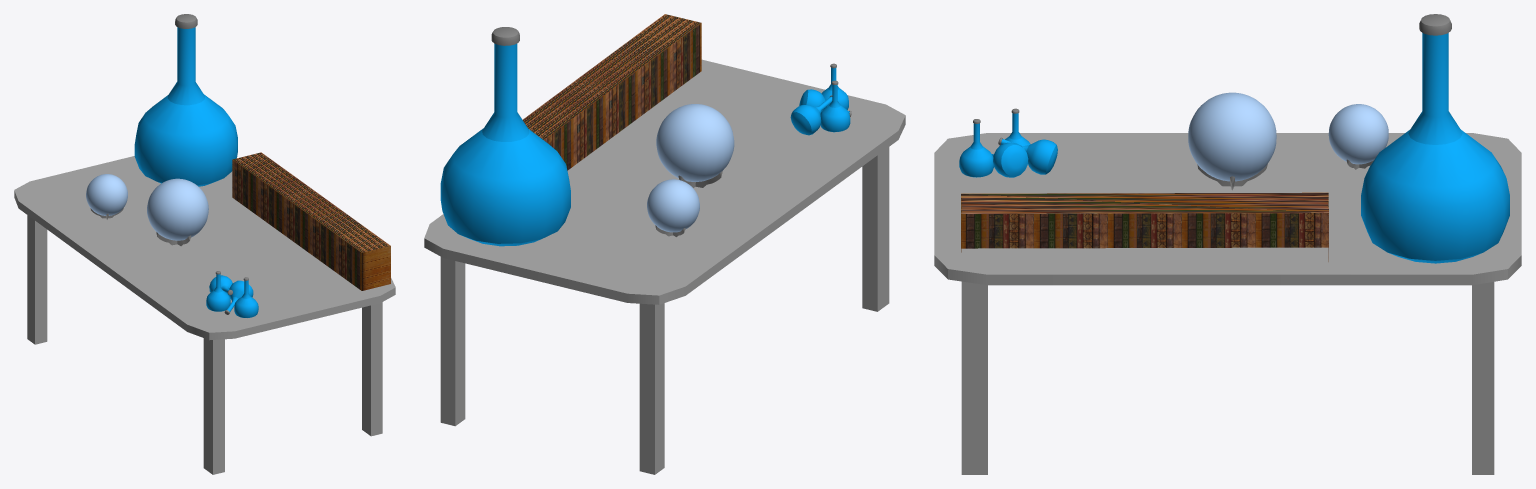
File: table.fbx
3 renders of one model, left to right at view 1: azimuth 30°, elevation 25°; view 2: azimuth 150°, elevation 25°; view 3: azimuth 270°, elevation 25°, orthographic. The views are drawn at different scales.
Visible parts, largest first — view 1: pCube12, bottle (×3), pCube13, crystal_ball1 (×2); view 2: pCube12, bottle (×3), pCube13, crystal_ball1 (×2); view 3: pCube12, bottle (×4), pCube13, crystal_ball1 (×2), cap.
Part boxes in pixels (<box>): pCube12: <box>14,156,395,474</box>; bottle (×3): <box>134,27,258,317</box>; pCube13: <box>232,152,390,290</box>; crystal_ball1 (×2): <box>86,174,208,240</box>; pCube12: <box>424,59,905,474</box>; bottle (×3): <box>440,43,850,246</box>; pCube13: <box>523,14,701,170</box>; crystal_ball1 (×2): <box>647,104,734,232</box>; pCube12: <box>934,133,1521,474</box>; bottle (×4): <box>959,33,1509,263</box>; pCube13: <box>961,192,1328,261</box>; crystal_ball1 (×2): <box>1188,92,1388,181</box>; cap: <box>1419,14,1451,35</box>.
Bounding box in the file's own units: 2.35 × 3.36 × 4.11.
Materials: 5 (1 with a texture image).
